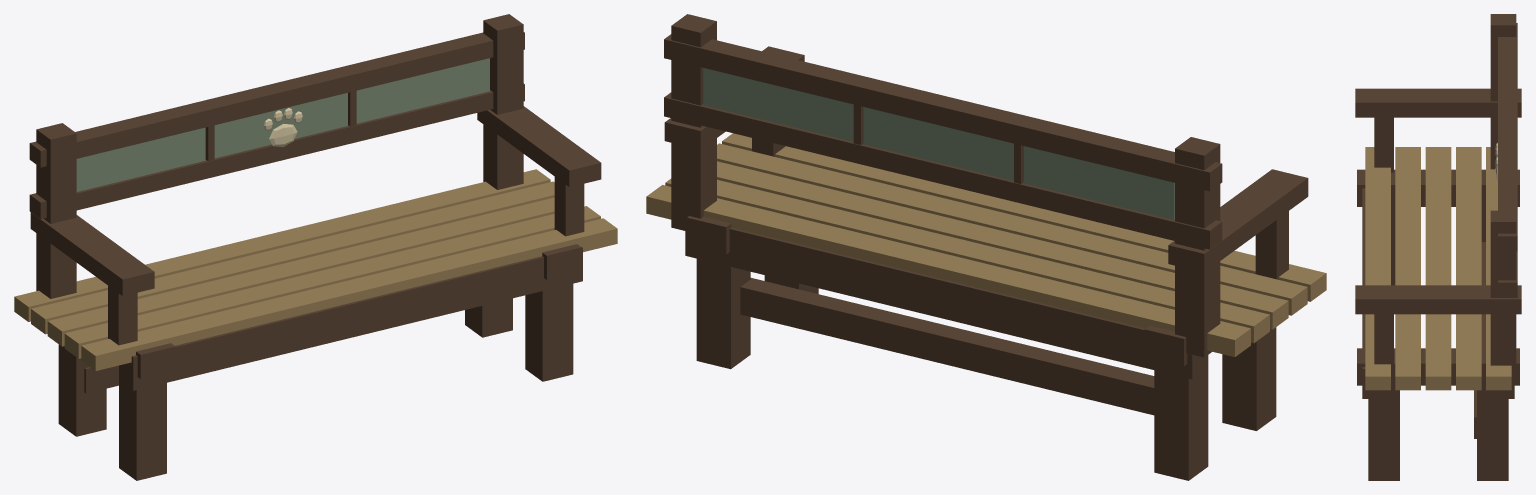
Rendered from Museum_Bench.fbx.
3 views of the same model, side by side, from view 1: azimuth 30°, elevation 25°; view 2: azimuth 150°, elevation 25°; view 3: azimuth 270°, elevation 25° (orthographic). The views are drawn at different scales.
Visible parts, largest first — view 1: Museum_Bench; view 2: Museum_Bench; view 3: Museum_Bench.
Part boxes in pixels (<box>): Museum_Bench: <box>14,14,617,480</box>; Museum_Bench: <box>646,14,1326,480</box>; Museum_Bench: <box>1355,14,1521,480</box>.
Size of the model in its own units: 180 by 97.5 by 55.
Materials: 1 (1 with a texture image).
